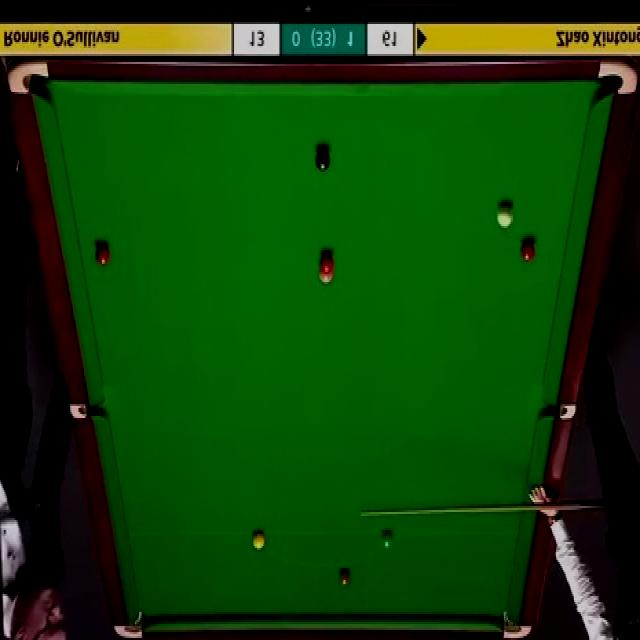black-ball: (314, 146, 332, 172)
brown-ball: (338, 568, 351, 588)
green-ball: (380, 530, 393, 551)
pink-ball: (318, 270, 334, 284)
red-ball: (95, 242, 111, 268), (520, 239, 536, 264), (318, 252, 335, 273)
white-ball: (496, 203, 513, 228)
yellow-ball: (254, 529, 267, 549)
